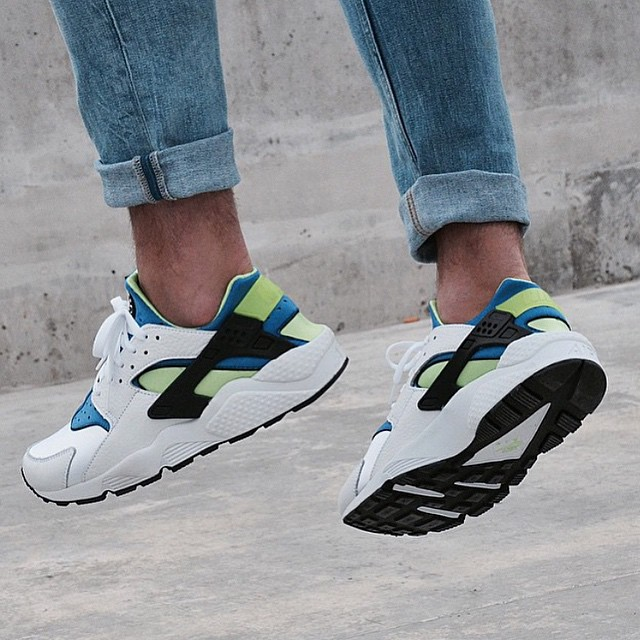sneaker: (328, 206, 624, 551), (9, 235, 366, 521)
